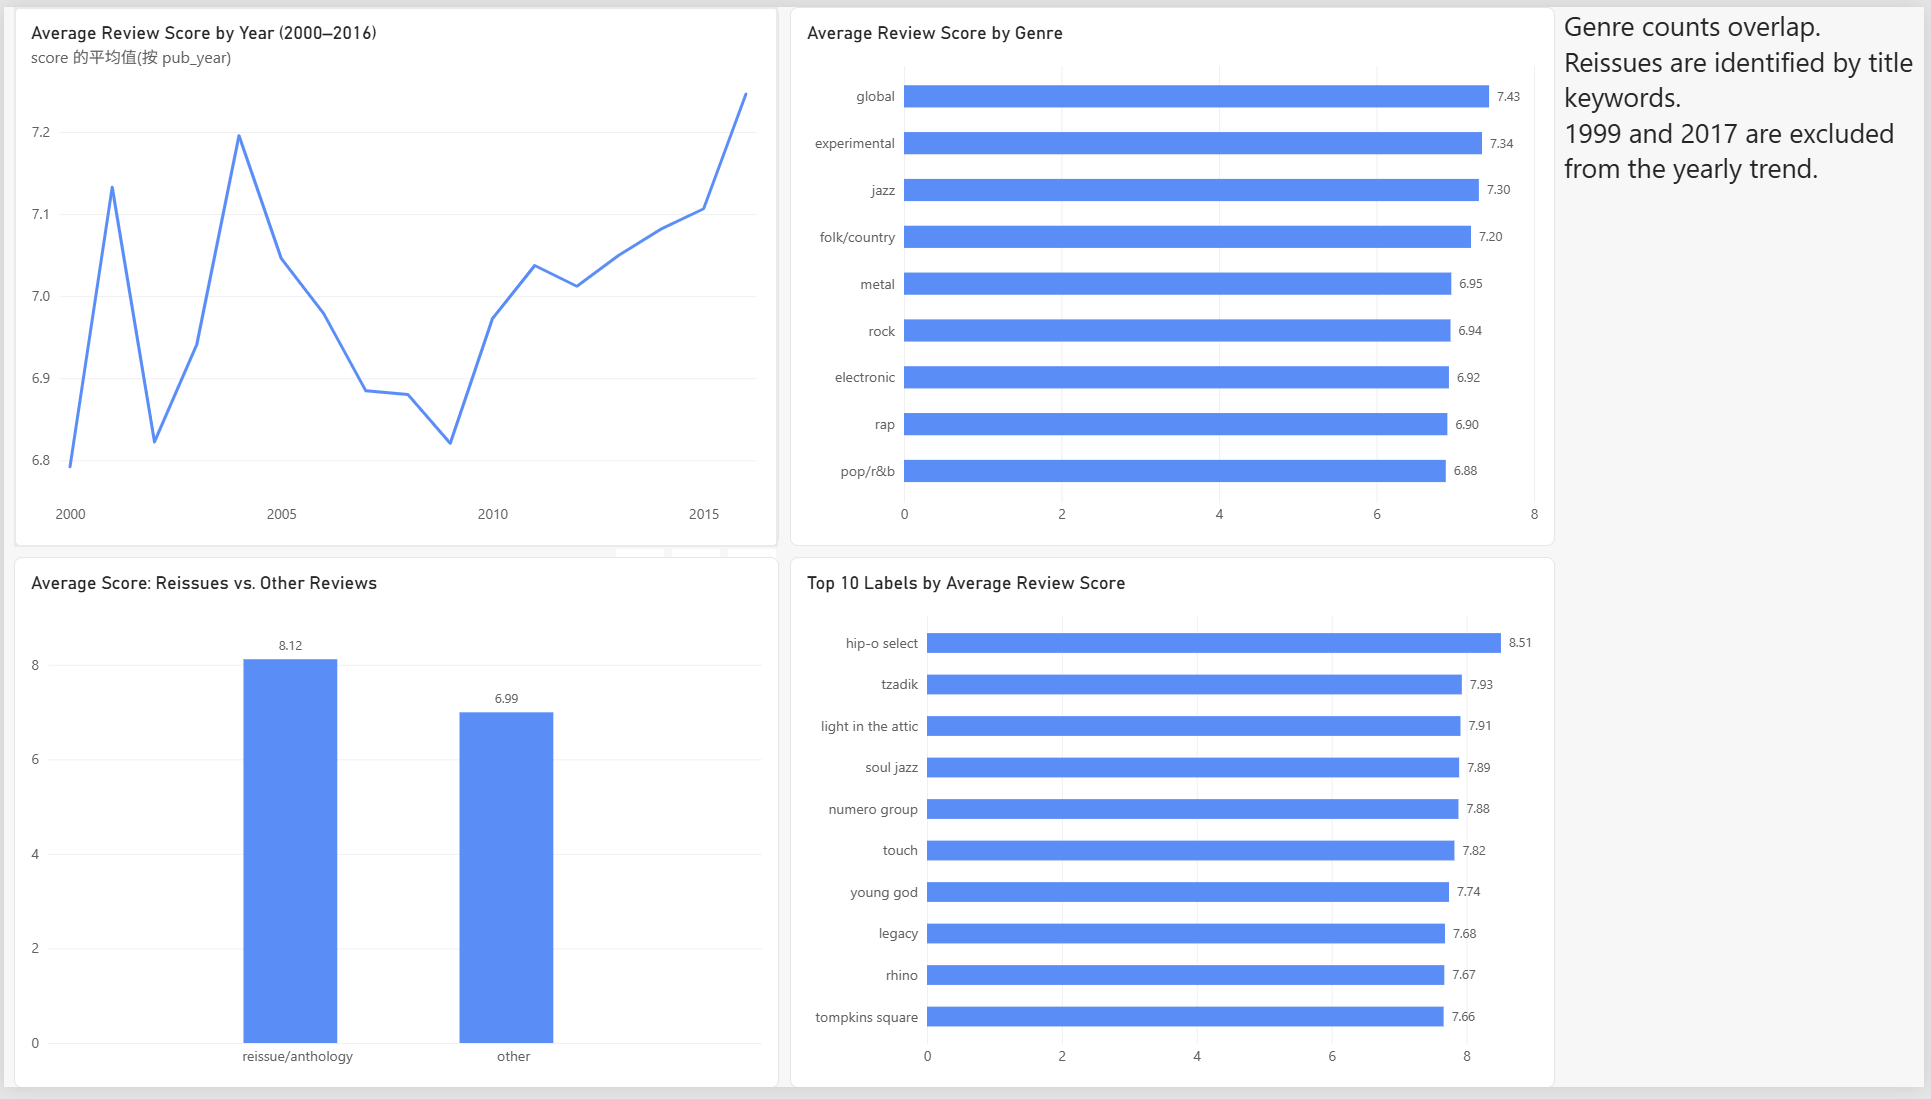

This screenshot's page, from the dashboard's own definition file:
{"tool":"powerbi","page":{"name":"第 1 页","canvas":[1920,1080],"ordinal":0},"visuals":[{"type":"lineChart","title":"Average Review Score by Year (2000–2016)","fields":{"Category":["reviews.pub_year"],"Y":["Avg(reviews.score)"]},"box":[9.6,0,764.9,539.3],"z":0},{"type":"clusteredColumnChart","title":"Average Score: Reissues vs. Other Reviews","fields":{"Category":["reviews.type"],"Y":["Avg(reviews.score)"]},"box":[10,549,765,531],"z":1},{"type":"clusteredBarChart","title":"Average Review Score by Genre","fields":{"Category":["genre_summary.genre"],"Y":["Max(genre_summary.avg_score)"]},"box":[785,0,765,539],"z":2},{"type":"clusteredBarChart","title":"Top 10 Labels by Average Review Score","fields":{"Category":["label_summary.label"],"Y":["Max(label_summary.avg_score)"]},"box":[785,549,765,531],"z":3},{"type":"textbox","box":[1560,0,360,539],"z":4}]}

Visuals, with their boxes in screenshot pixels (x1, y1, x2, y2), scaled from the page's 1920x1080 canvas onto the 1931x1099 screenshot:
"Average Review Score by Year (2000–2016)" lineChart: 10 0 779 549
"Average Score: Reissues vs. Other Reviews" clusteredColumnChart: 10 559 779 1098
"Average Review Score by Genre" clusteredBarChart: 789 0 1559 548
"Top 10 Labels by Average Review Score" clusteredBarChart: 789 559 1559 1098
textbox: 1569 0 1930 548
